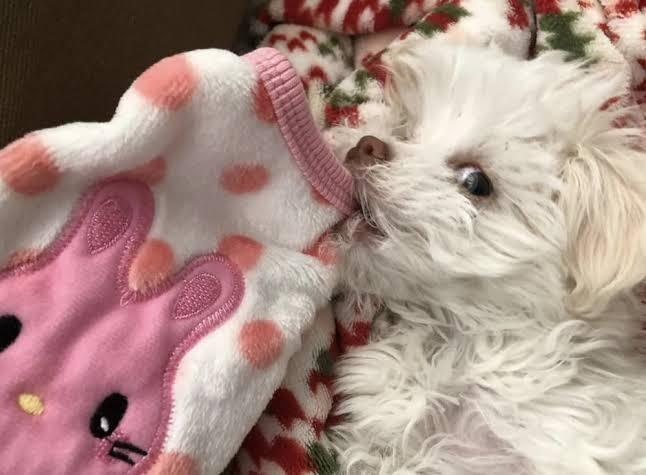puppy-dog: (333, 40, 646, 475)
